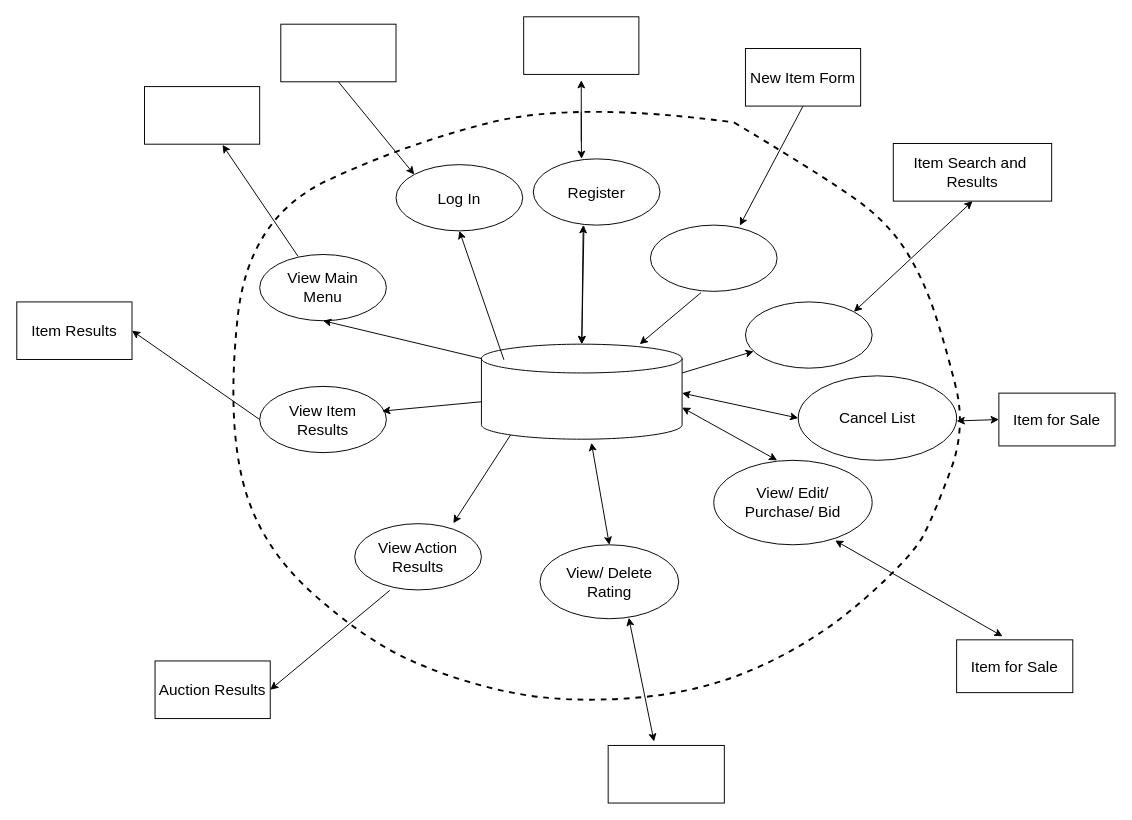
Image size: 1132x820. Some labels were removed from this diagram. The shapes that lost their labels are listed below. From the top down, each one's centre as x and y in pixels, then its label:
At (338,52): "Log In Window".
At (581,45): "New User Registration From".
At (202,115): "Main Menu".
At (713,257): "List Item".
At (808,334): "Search for Item".
At (581,391): "Database".
At (665,773): "Item Rating".
